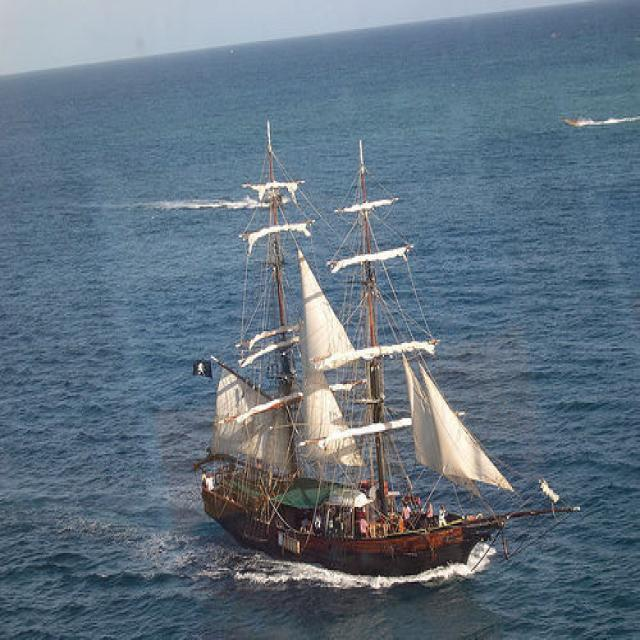Ship: (195, 118, 540, 580)
